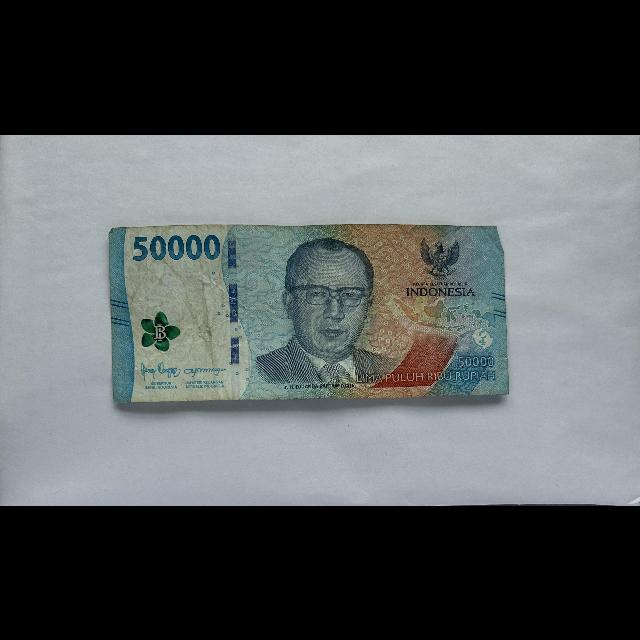Asli-50k: (108, 222, 511, 404)
Tinta-Asli-50k: (140, 309, 182, 352)
